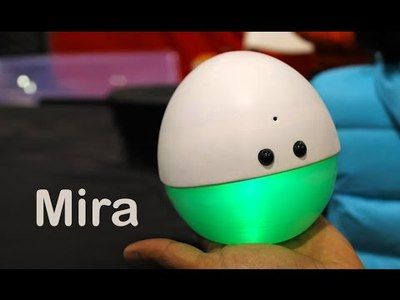mira_robot: (157, 51, 340, 243)
